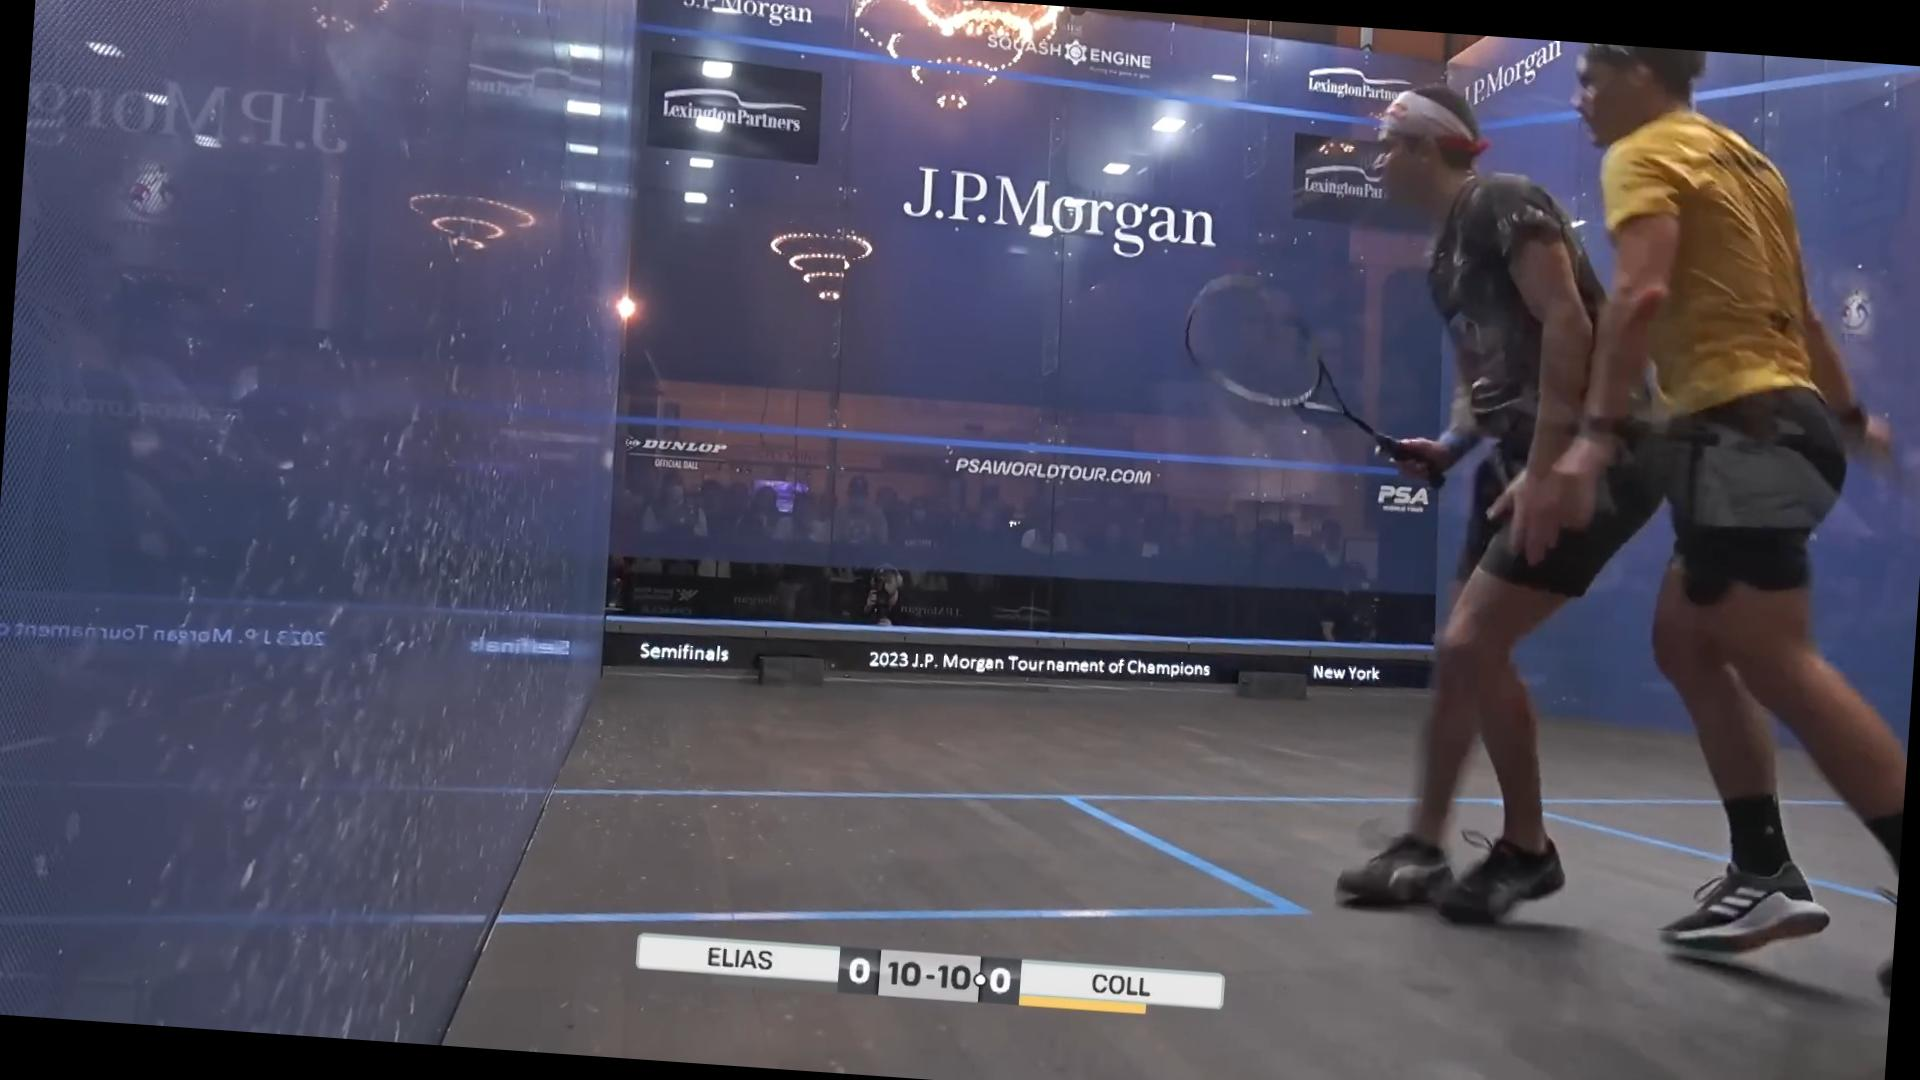Racket: (1163, 252, 1423, 464)
